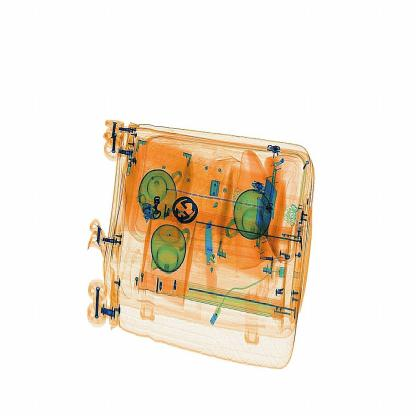wrench: (196, 211, 226, 311)
